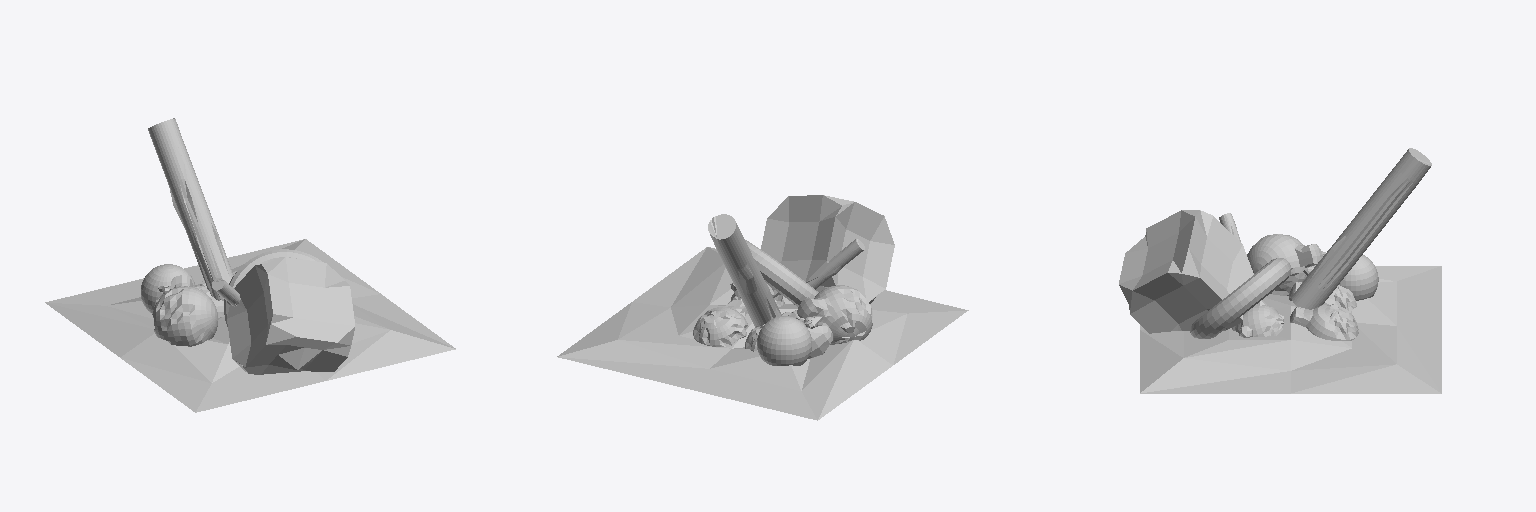
File: junk.obj
The picture shows the model from 3 angles: view 1: azimuth 30°, elevation 25°; view 2: azimuth 150°, elevation 25°; view 3: azimuth 270°, elevation 25°; orthographic projection.
Parts seen in each view (by area): view 1: Plane, Cube.001_Cube.002, Cylinder, Sphere.003, Sphere.004, Torus; view 2: Plane, Cube.001_Cube.002, Cylinder, Sphere.003, Sphere.004, Sphere, Torus, Suzanne, Cylinder.001; view 3: Plane, Cube.001_Cube.002, Cylinder, Torus, Sphere.003, Sphere, Sphere.001, Sphere.004, Sphere.002.
Boxes of the visible parts, x1=… form: Plane: x1=45, y1=239, x2=455, y2=412; Cube.001_Cube.002: x1=227, y1=257, x2=354, y2=374; Cylinder: x1=148, y1=118, x2=233, y2=300; Sphere.003: x1=152, y1=275, x2=217, y2=346; Sphere.004: x1=141, y1=264, x2=195, y2=313; Torus: x1=224, y1=249, x2=321, y2=326; Plane: x1=557, y1=247, x2=968, y2=420; Cube.001_Cube.002: x1=761, y1=195, x2=894, y2=303; Cylinder: x1=708, y1=214, x2=781, y2=326; Sphere.003: x1=797, y1=285, x2=872, y2=344; Sphere.004: x1=757, y1=316, x2=811, y2=365; Sphere: x1=693, y1=300, x2=748, y2=346; Torus: x1=745, y1=240, x2=818, y2=306; Suzanne: x1=788, y1=310, x2=832, y2=358; Cylinder.001: x1=794, y1=239, x2=864, y2=304; Plane: x1=1140, y1=266, x2=1441, y2=393; Cube.001_Cube.002: x1=1119, y1=210, x2=1253, y2=333; Cylinder: x1=1291, y1=148, x2=1431, y2=309; Torus: x1=1190, y1=258, x2=1291, y2=338; Sphere.003: x1=1247, y1=234, x2=1322, y2=295; Sphere: x1=1290, y1=304, x2=1358, y2=340; Sphere.001: x1=1232, y1=299, x2=1283, y2=337; Sphere.004: x1=1339, y1=255, x2=1378, y2=300; Sphere.002: x1=1289, y1=282, x2=1356, y2=312.
Bounding box in the file's own units: 2 × 1.38 × 2.14.